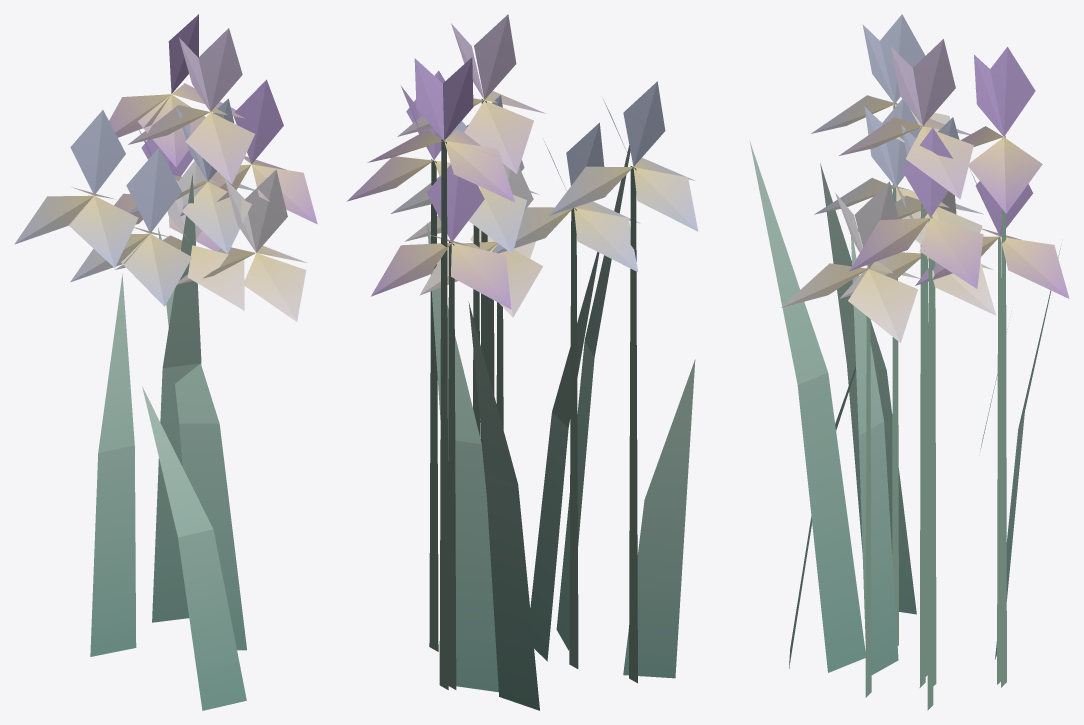
Rendered from iris_clump.glb.
3 views of the same model, side by side, from view 1: azimuth 30°, elevation 25°; view 2: azimuth 150°, elevation 25°; view 3: azimuth 270°, elevation 25° (orthographic). The views are drawn at different scales.
Parts seen in each view (by area): view 1: near, far; view 2: near, far; view 3: near, far.
Boxes of the visible parts, <box> form: near: <box>70,14,317,710</box>; far: <box>14,28,254,267</box>; near: <box>347,57,695,710</box>; far: <box>371,14,698,689</box>; near: <box>749,47,1061,710</box>; far: <box>811,14,1069,687</box>.
Bounding box in the file's own units: 0.4901 × 0.9269 × 0.4234.
